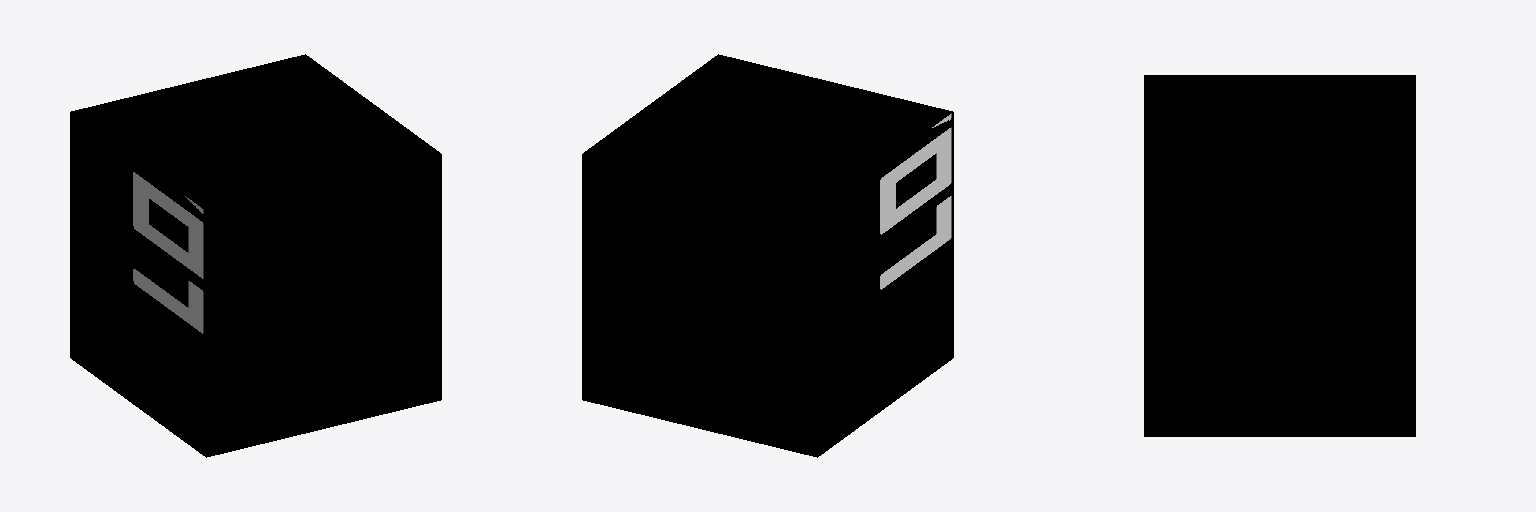
3 renders of one model, left to right at view 1: azimuth 30°, elevation 25°; view 2: azimuth 150°, elevation 25°; view 3: azimuth 270°, elevation 25°, orthographic.
Visible parts, largest first — view 1: Cube; view 2: Cube; view 3: Cube.
Boxes of the visible parts, x1=… form: Cube: x1=70, y1=54, x2=441, y2=457; Cube: x1=582, y1=54, x2=953, y2=457; Cube: x1=1144, y1=75, x2=1415, y2=436.
Size of the model in its own units: 2 by 2 by 2.
1 materials, 1 textured.